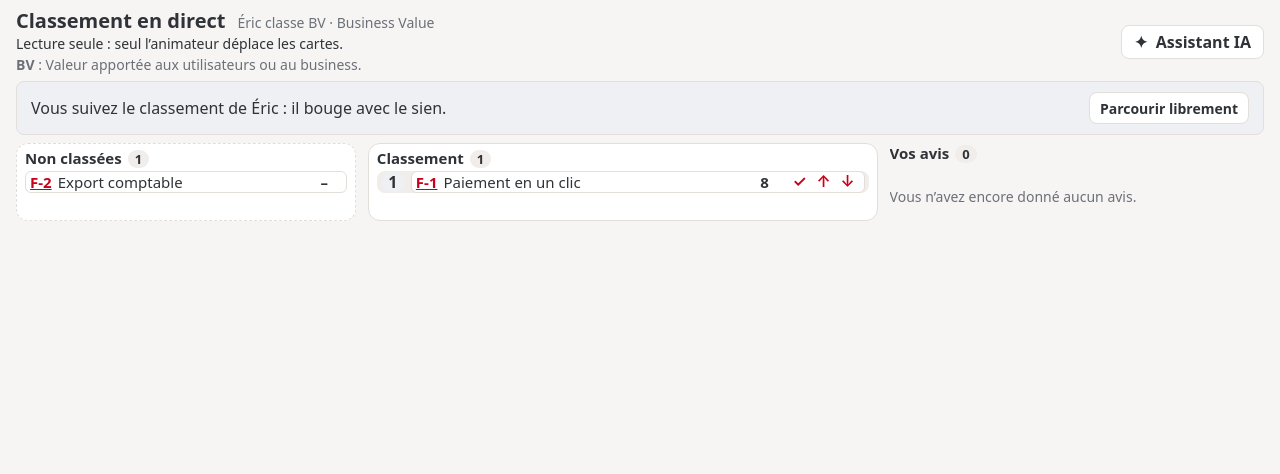
Test: LiveRankingViewComponent › gives an opinion with the next value of the scale; the comment opens only on demand
The image size is (1280, 474).
Click the button "↑".
click(824, 182)  # box [812,172,836,192]
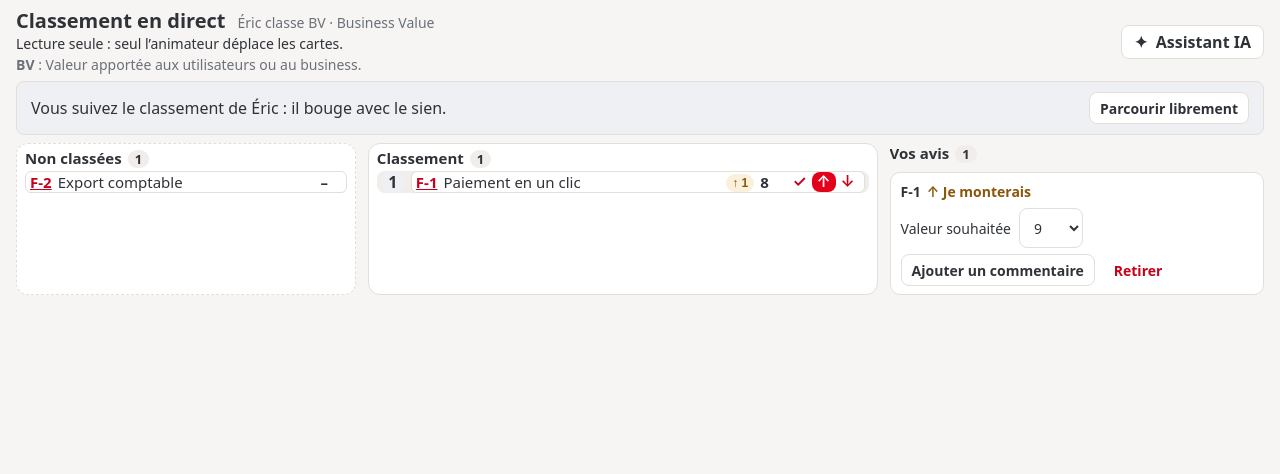
Click the button "Ajouter un commentaire".
click(998, 270)  # box [901,254,1095,286]
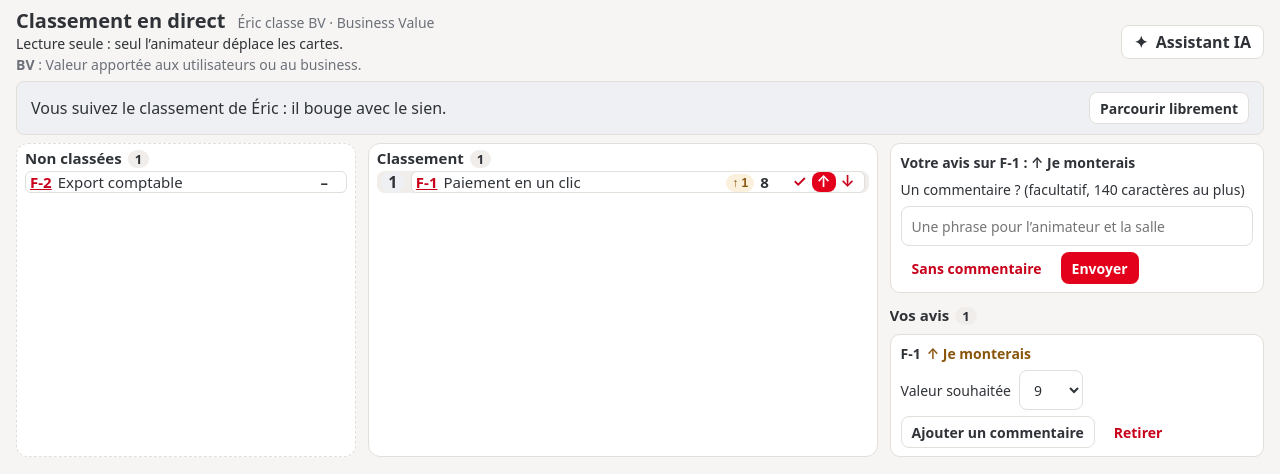
Expected: the form with class "opinion-composer" shows "Votre avis sur F-1 : ↑ Je monterais", [901,153,1135,172]
Type "  Le salon de mars.  " into the field with id "opinion-comment".
click(1077, 226); type("  Le salon de mars.  ")  # box [901,206,1253,246]
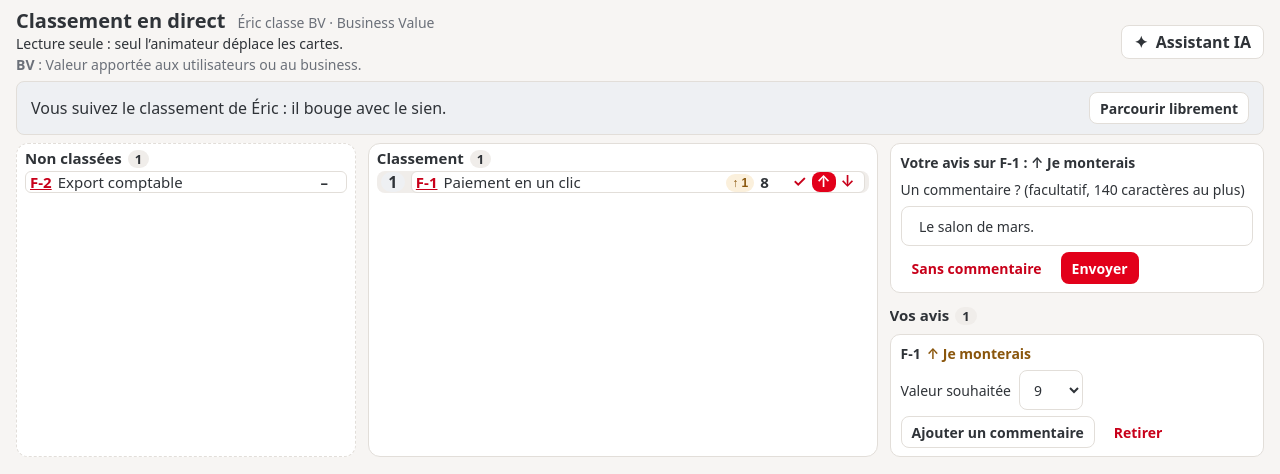
Submit the form with class "opinion-composer", box [890,143,1264,293]
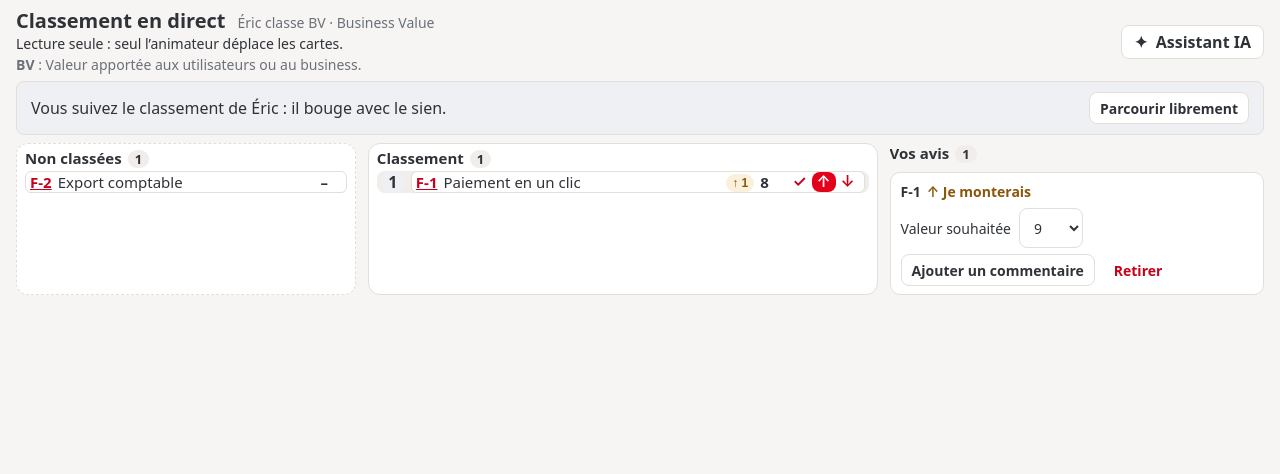
Expected: the form with class "opinion-composer" is gone
